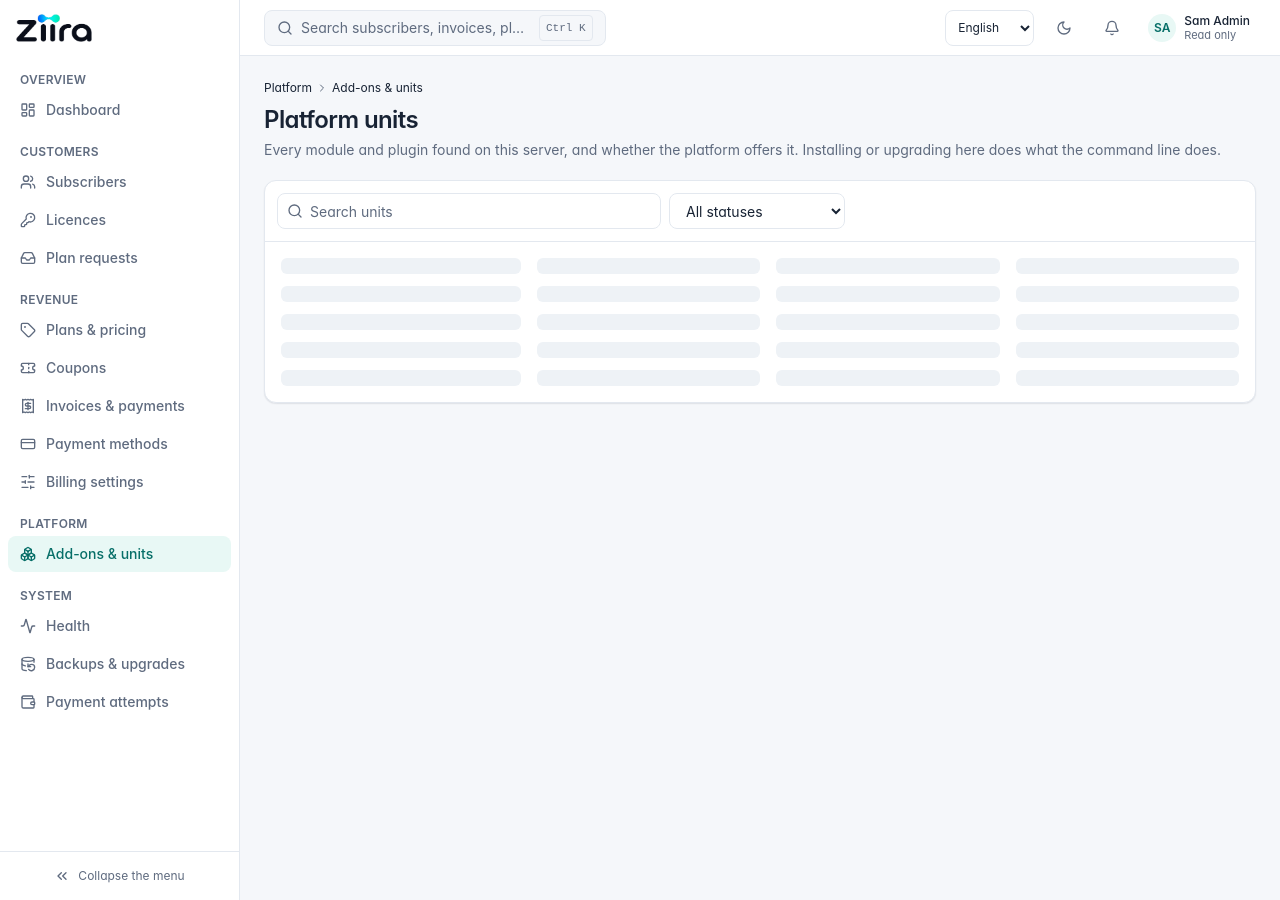
Test: the search box › does not offer screens the role cannot open
Expected: the navigation bar named "Console areas" is shown, [0,56,239,851]
Press k
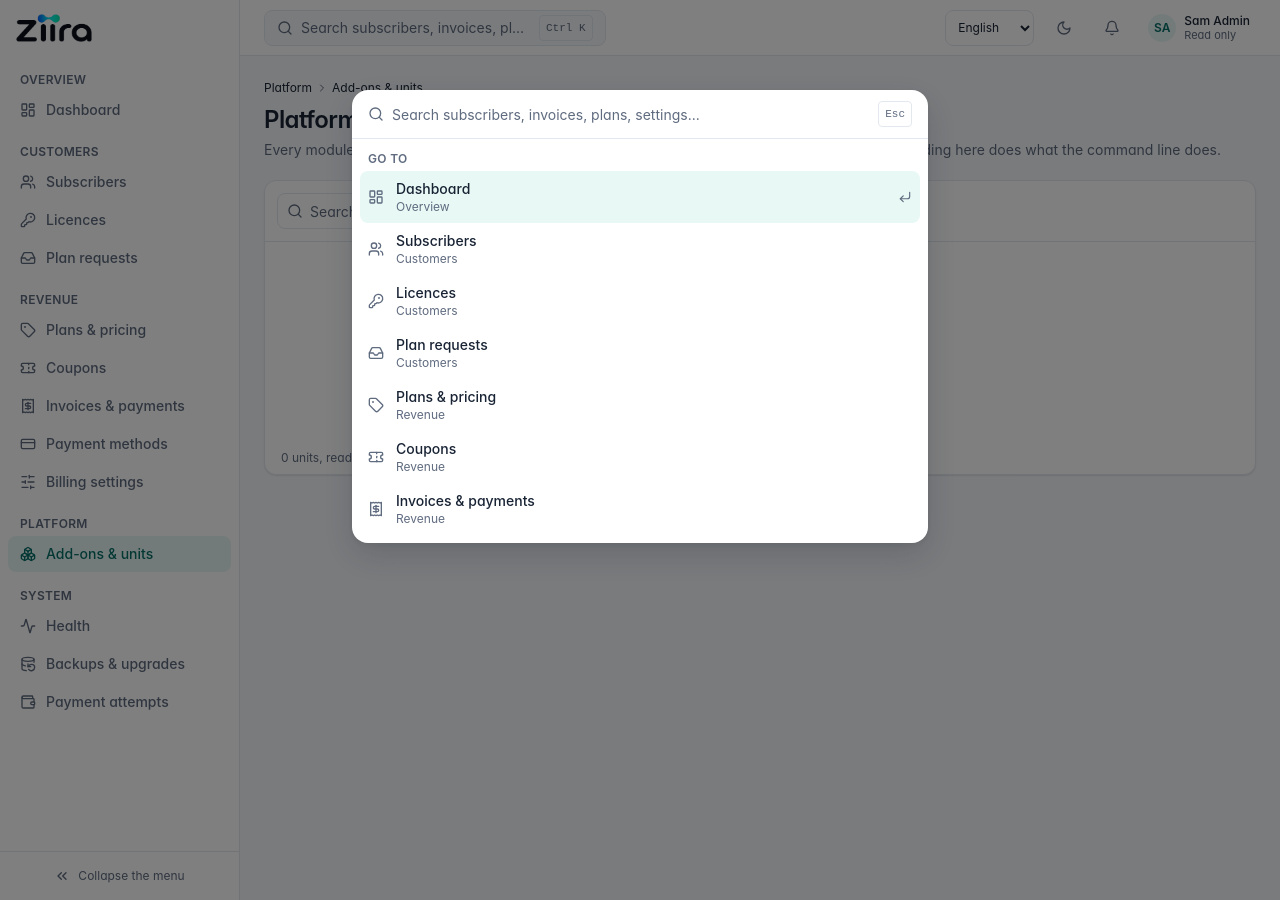
Type "audit" into the dropdown named "Search the console". click: [631, 114]
box: [392,90,870,138]
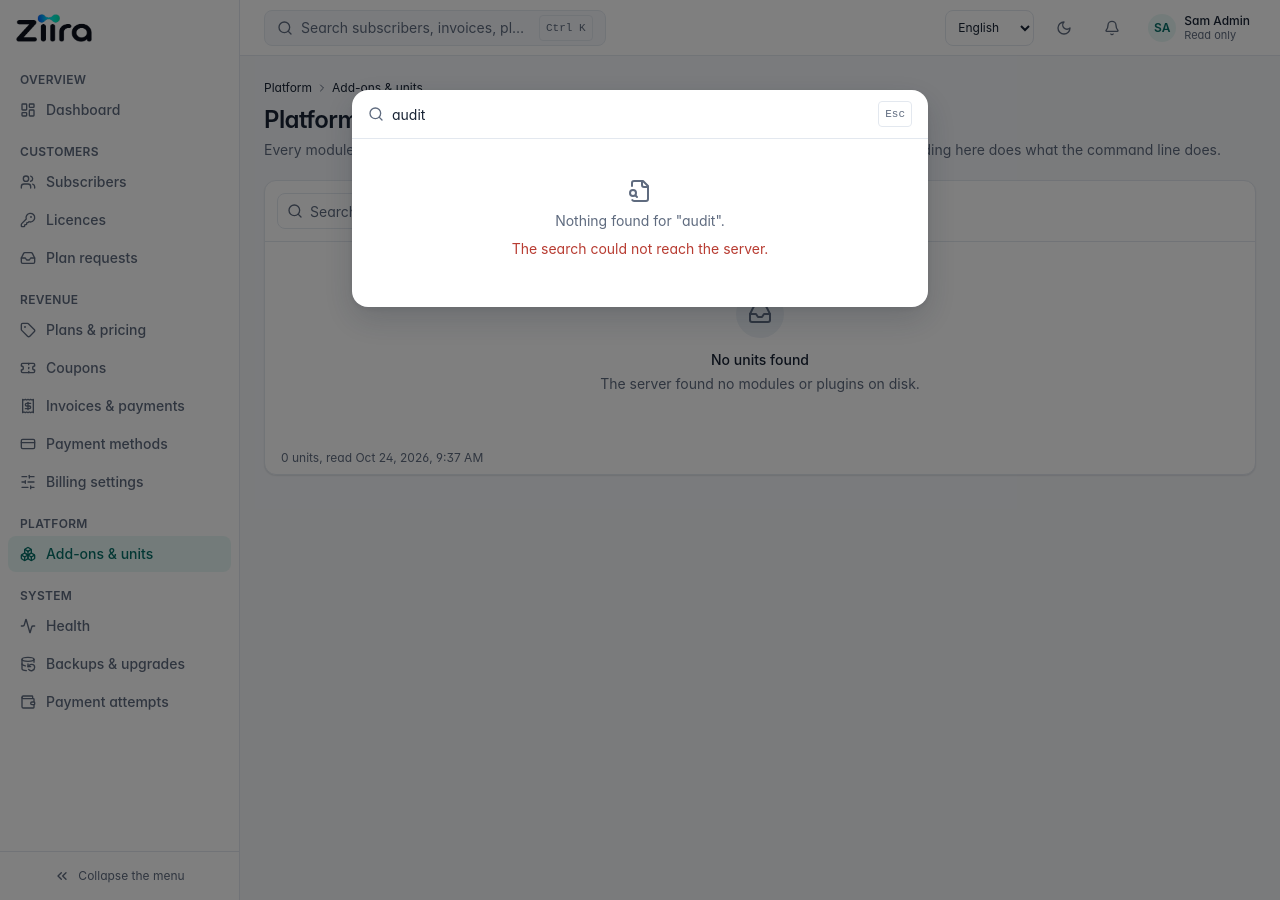
Result: the text "Nothing found for \"audit\"." is shown at [555,211,725,231]
